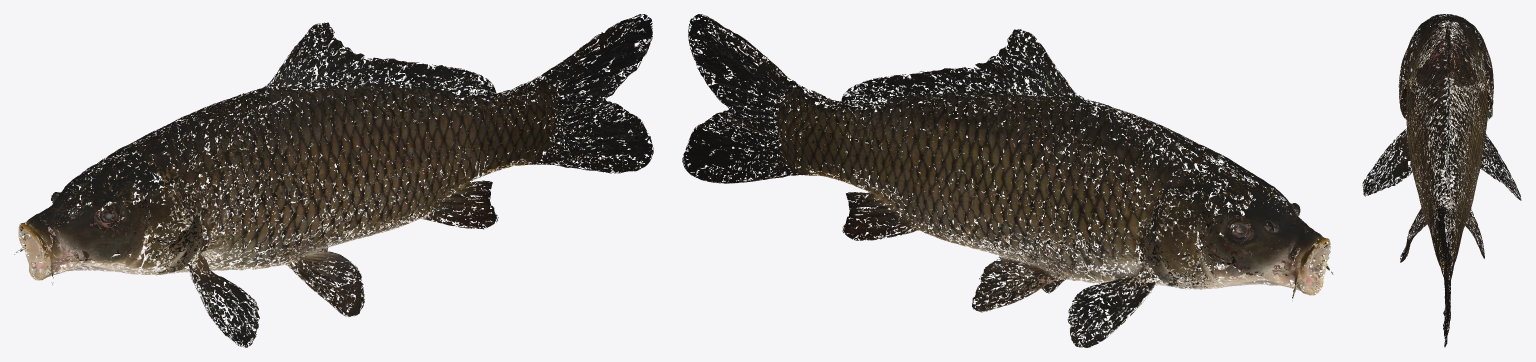
The model's file is carp.glb.
3 renders of one model, left to right at view 1: azimuth 30°, elevation 25°; view 2: azimuth 150°, elevation 25°; view 3: azimuth 270°, elevation 25°, orthographic. The views are drawn at different scales.
Visible parts, largest first — view 1: Object_6; view 2: Object_6; view 3: Object_6.
Boxes of the visible parts, x1,y1,x2,y2 form: Object_6: (14,14,653,347); Object_6: (682,14,1333,347); Object_6: (1362,14,1521,347).
Size of the model in its own units: 0.2735 by 0.1145 by 0.0708.
1 material, 1 textured.
